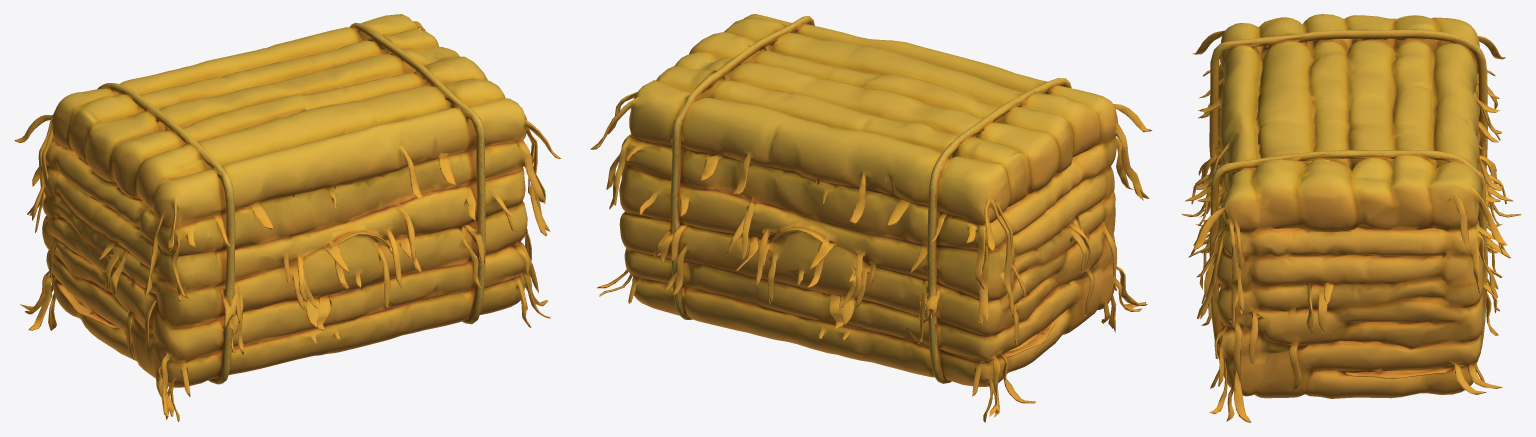
The model's file is straw_bale_3d_model.fbx.
3 views of the same model, side by side, from view 1: azimuth 30°, elevation 25°; view 2: azimuth 150°, elevation 25°; view 3: azimuth 270°, elevation 25° (orthographic). The views are drawn at different scales.
Parts seen in each view (by area): view 1: tripo_node_d0457268; view 2: tripo_node_d0457268; view 3: tripo_node_d0457268.
Boxes of the visible parts, <box> form: tripo_node_d0457268: <box>14,14,561,422</box>; tripo_node_d0457268: <box>590,14,1152,422</box>; tripo_node_d0457268: <box>1182,14,1521,422</box>.
Size of the model in its own units: 0.9807 by 0.5535 by 0.6841.
